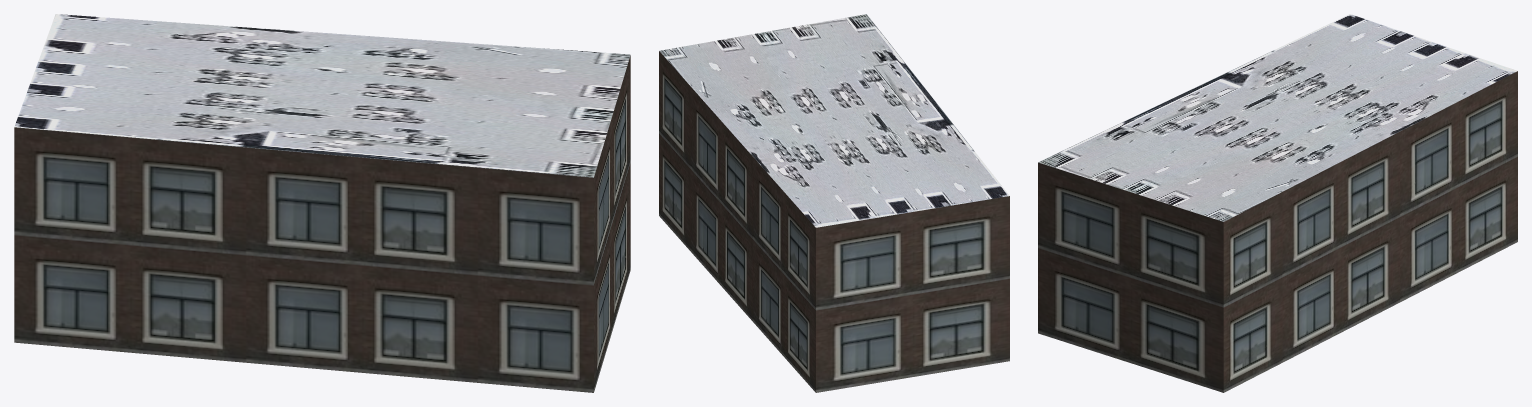
The model's file is ResTex__1878.fbx.
3 renders of one model, left to right at view 1: azimuth 30°, elevation 25°; view 2: azimuth 150°, elevation 25°; view 3: azimuth 270°, elevation 25°, orthographic. The views are drawn at different scales.
Visible parts, largest first — view 1: CityEngineMaterial_16_m, CityEngineMaterial_15_m; view 2: CityEngineMaterial_16_m, CityEngineMaterial_15_m; view 3: CityEngineMaterial_16_m, CityEngineMaterial_15_m.
Boxes of the visible parts, bbox=[...] form: CityEngineMaterial_16_m: bbox=[14, 55, 630, 392]; CityEngineMaterial_15_m: bbox=[14, 14, 630, 177]; CityEngineMaterial_16_m: bbox=[659, 51, 1009, 392]; CityEngineMaterial_15_m: bbox=[659, 14, 1009, 227]; CityEngineMaterial_16_m: bbox=[1038, 71, 1517, 392]; CityEngineMaterial_15_m: bbox=[1038, 14, 1517, 221].
Bounding box in the file's own units: 15.65 × 6 × 15.26.
2 materials, 2 textured.
